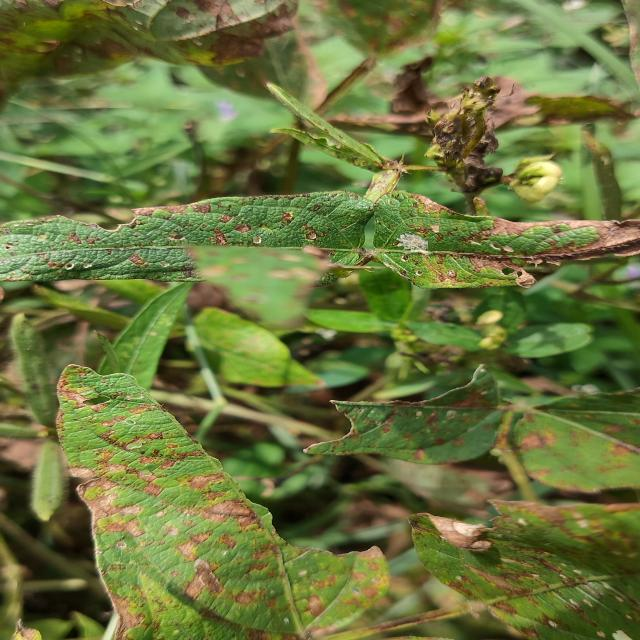Black gram_leaf spot: (48, 347, 399, 640), (0, 190, 640, 290), (298, 365, 515, 464), (494, 384, 640, 494)
